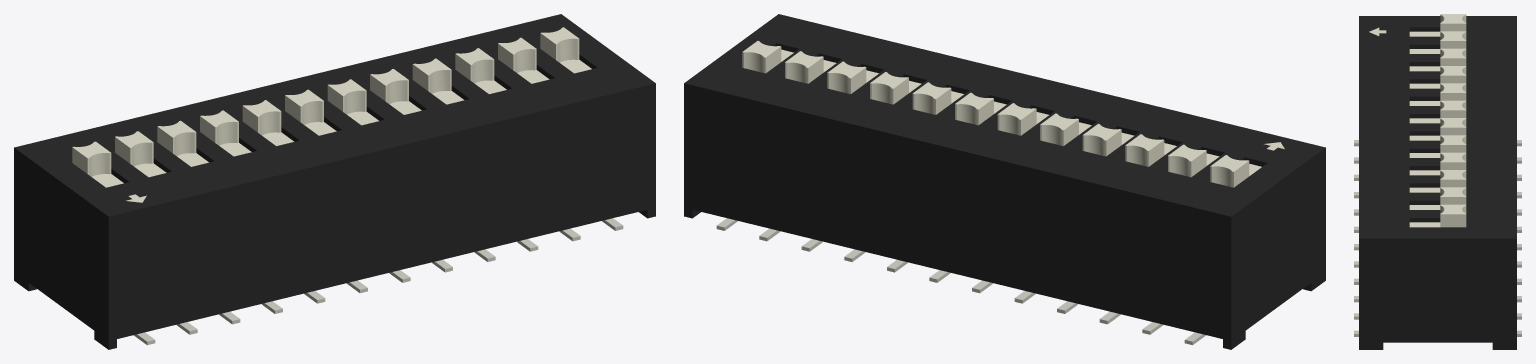
The model's file is kc-sw_dip_spstx12_slide_9.78x32.66mm_w8.61mm_p2.54mm.glb.
3 views of the same model, side by side, from view 1: azimuth 30°, elevation 25°; view 2: azimuth 150°, elevation 25°; view 3: azimuth 270°, elevation 25° (orthographic). The views are drawn at different scales.
Parts seen in each view (by area): view 1: 0_0_0_0, 0.75_0.75_0.6666666666666666_0, 0.6666666666666666_0.6666666666666666_0.5833333333333334_0.8; view 2: 0_0_0_0, 0.75_0.75_0.6666666666666666_0, 0.6666666666666666_0.6666666666666666_0.5833333333333334_0.8; view 3: 0_0_0_0, 0.75_0.75_0.6666666666666666_0, 0.6666666666666666_0.6666666666666666_0.5833333333333334_0.8.
Boxes of the visible parts, left/top/right/bottom form: 0_0_0_0: left=14, top=14, right=655, bottom=349; 0.75_0.75_0.6666666666666666_0: left=72, top=27, right=591, bottom=202; 0.6666666666666666_0.6666666666666666_0.5833333333333334_0.8: left=134, top=218, right=623, bottom=345; 0_0_0_0: left=684, top=14, right=1325, bottom=349; 0.75_0.75_0.6666666666666666_0: left=742, top=41, right=1284, bottom=187; 0.6666666666666666_0.6666666666666666_0.5833333333333334_0.8: left=716, top=218, right=1205, bottom=345; 0_0_0_0: left=1359, top=16, right=1516, bottom=349; 0.75_0.75_0.6666666666666666_0: left=1369, top=14, right=1466, bottom=227; 0.6666666666666666_0.6666666666666666_0.5833333333333334_0.8: left=1354, top=140, right=1521, bottom=336.
Size of the model in its own units: 3.27 by 0.86 by 1.04.
